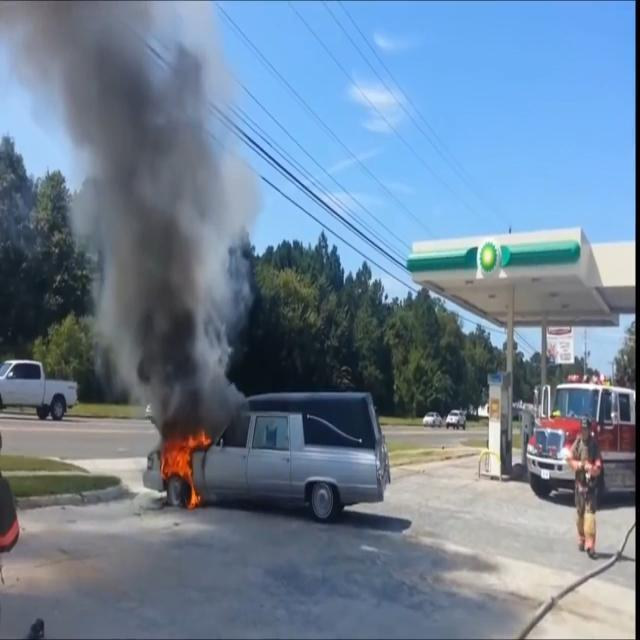fire: (157, 419, 212, 509)
